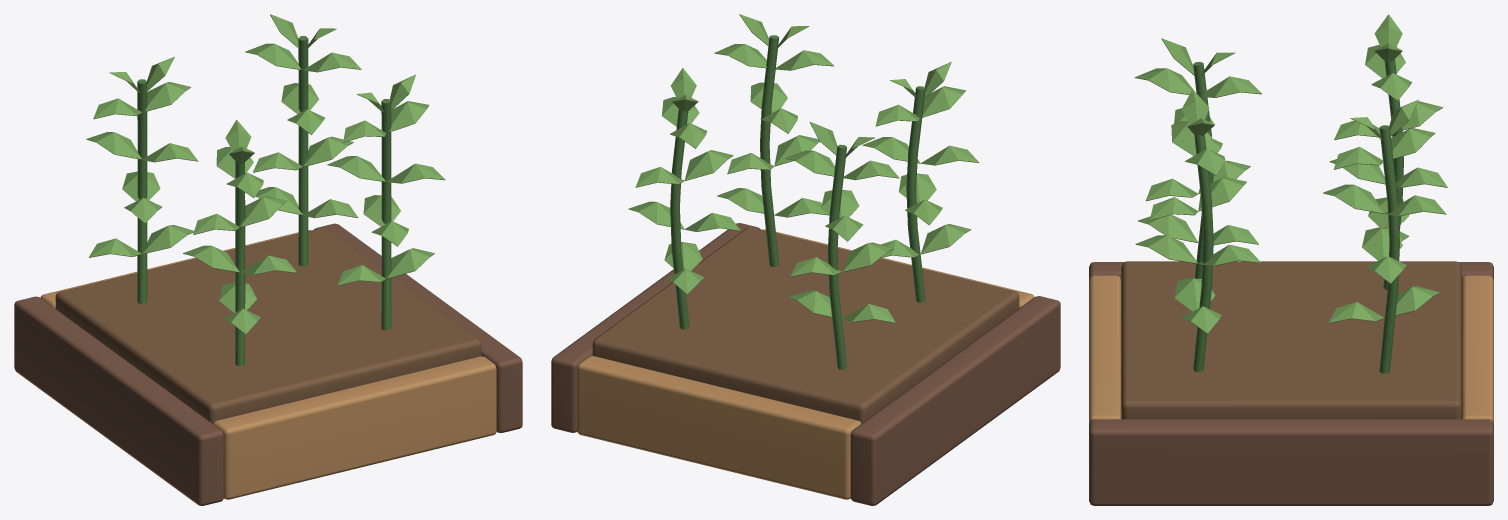
File: garden.herb.mint-new.glb
The picture shows the model from 3 angles, left to right: view 1: azimuth 30°, elevation 25°; view 2: azimuth 150°, elevation 25°; view 3: azimuth 270°, elevation 25°; orthographic projection. The views are drawn at different scales.
Visible parts, largest first — view 1: Cedar raised bed rail; view 2: Cedar raised bed rail; view 3: Cedar raised bed rail.
Boxes of the visible parts, x1,y1,x2,y2 form: Cedar raised bed rail: (14, 14, 522, 505); Cedar raised bed rail: (551, 14, 1060, 505); Cedar raised bed rail: (1089, 14, 1493, 505).
Size of the model in its own units: 1 by 0.9698 by 1.
